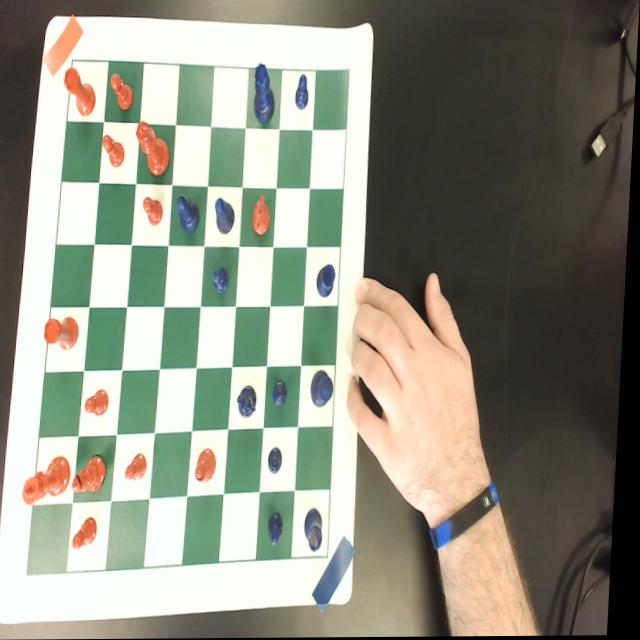B: (177, 195, 203, 235), (215, 198, 238, 236)
K: (313, 369, 339, 410)
N: (239, 382, 263, 419)
P: (295, 74, 312, 110), (273, 512, 290, 547), (215, 266, 233, 294), (272, 446, 289, 475), (276, 380, 291, 408)
Q: (253, 62, 277, 124)
R: (308, 507, 330, 552), (319, 263, 340, 299)
b: (77, 455, 113, 497), (200, 448, 221, 484)
k: (27, 454, 75, 507)
n: (253, 195, 275, 237)
p: (110, 71, 136, 113), (78, 515, 104, 551), (102, 134, 128, 168), (129, 451, 153, 482), (89, 388, 114, 416), (145, 196, 166, 226)
q: (135, 121, 174, 178)
r: (62, 67, 98, 117), (47, 315, 83, 350)
